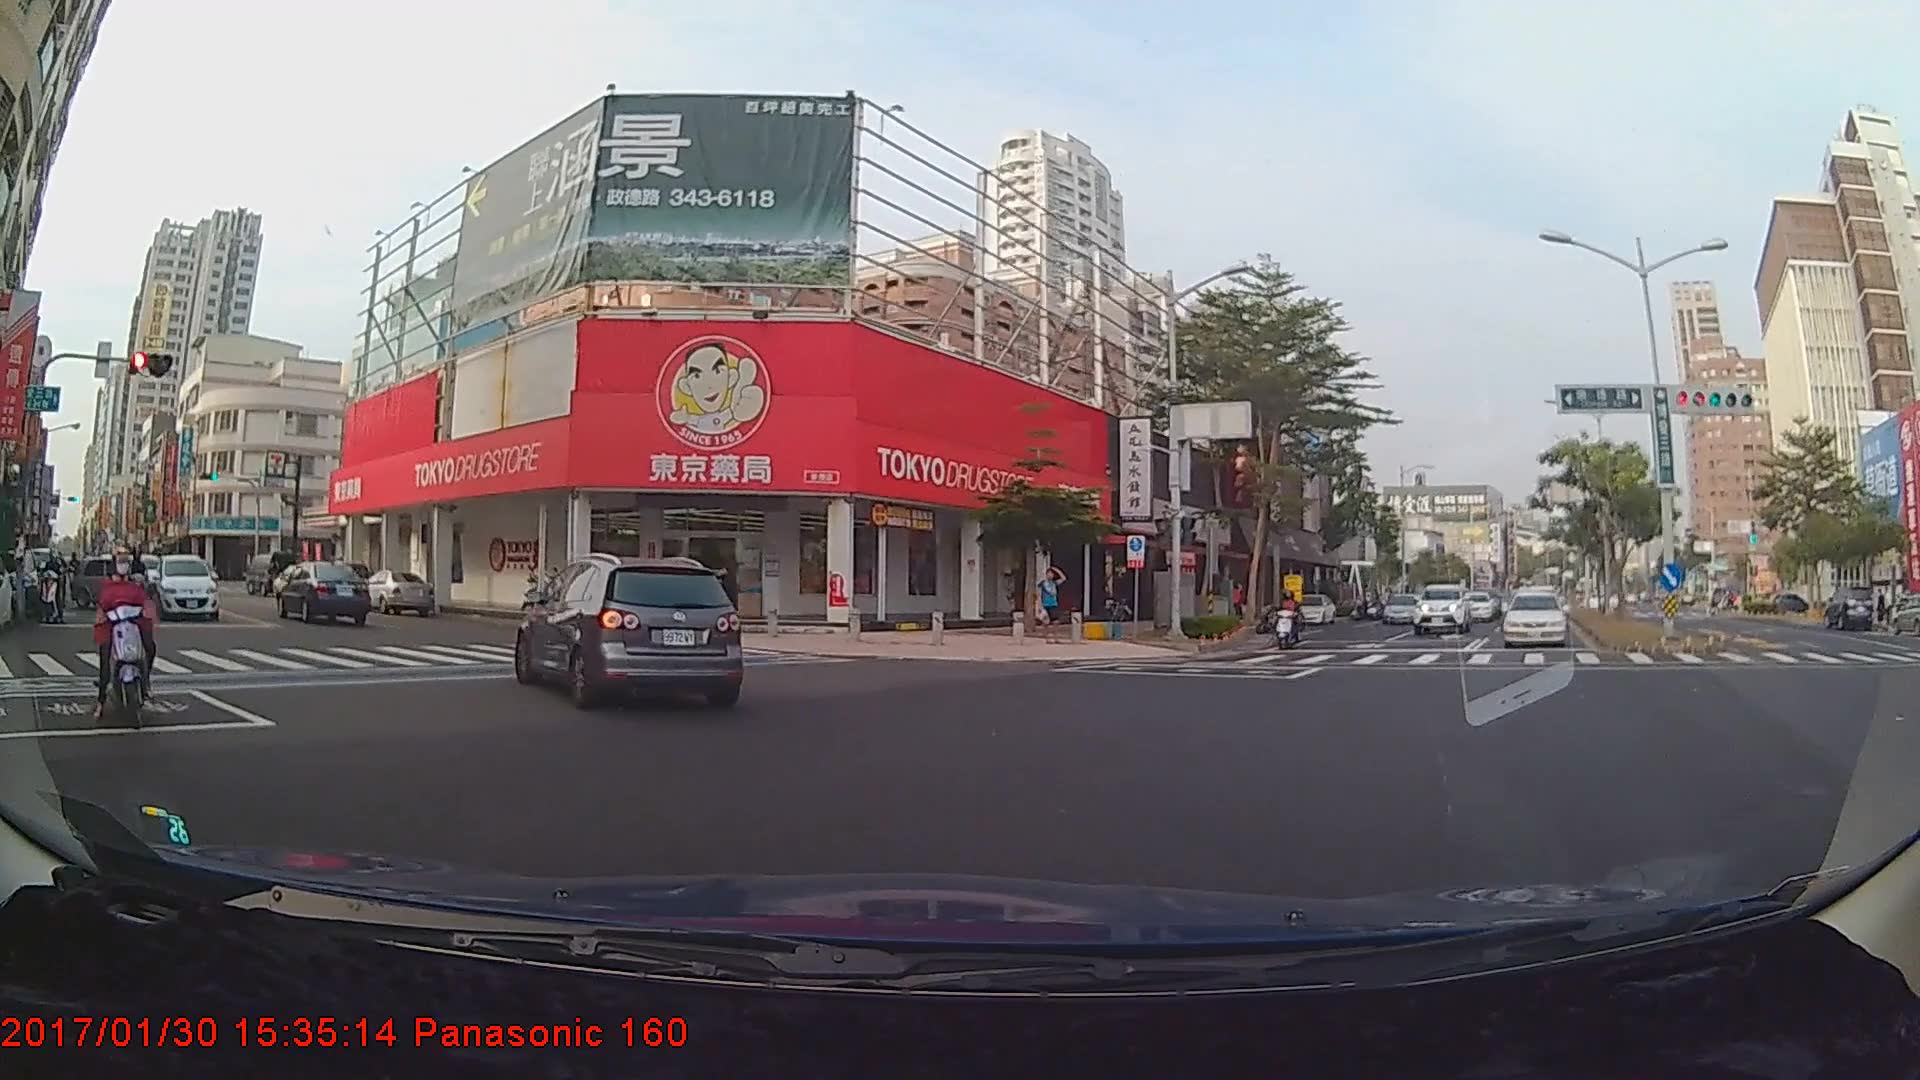pedestrian: (1038, 565, 1067, 644)
rider: (79, 545, 162, 756), (1271, 588, 1309, 653), (38, 543, 69, 623)
vehicle: (514, 556, 741, 707), (278, 560, 368, 624), (68, 555, 161, 609), (149, 556, 218, 623), (349, 566, 434, 616), (1500, 592, 1569, 648), (1411, 582, 1471, 635), (1285, 593, 1336, 624), (1381, 591, 1420, 624), (1458, 590, 1493, 622), (1821, 588, 1843, 629)
